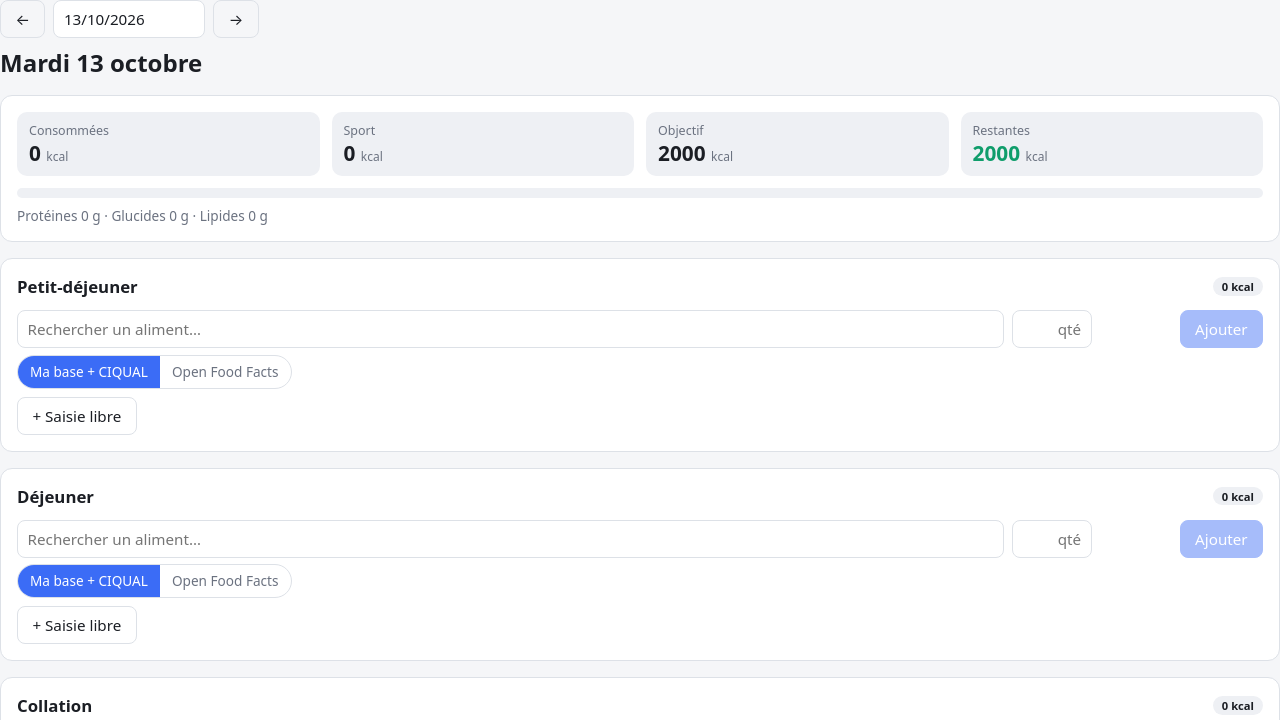
Scenario: Journal › ajoute un aliment à un repas
Check: the heading "Déjeuner" is shown, box [17, 485, 94, 508]
Type "Riz test" into the 2nd field with placeholder "Rechercher un aliment…" at (510,539), box [17, 520, 1004, 558]
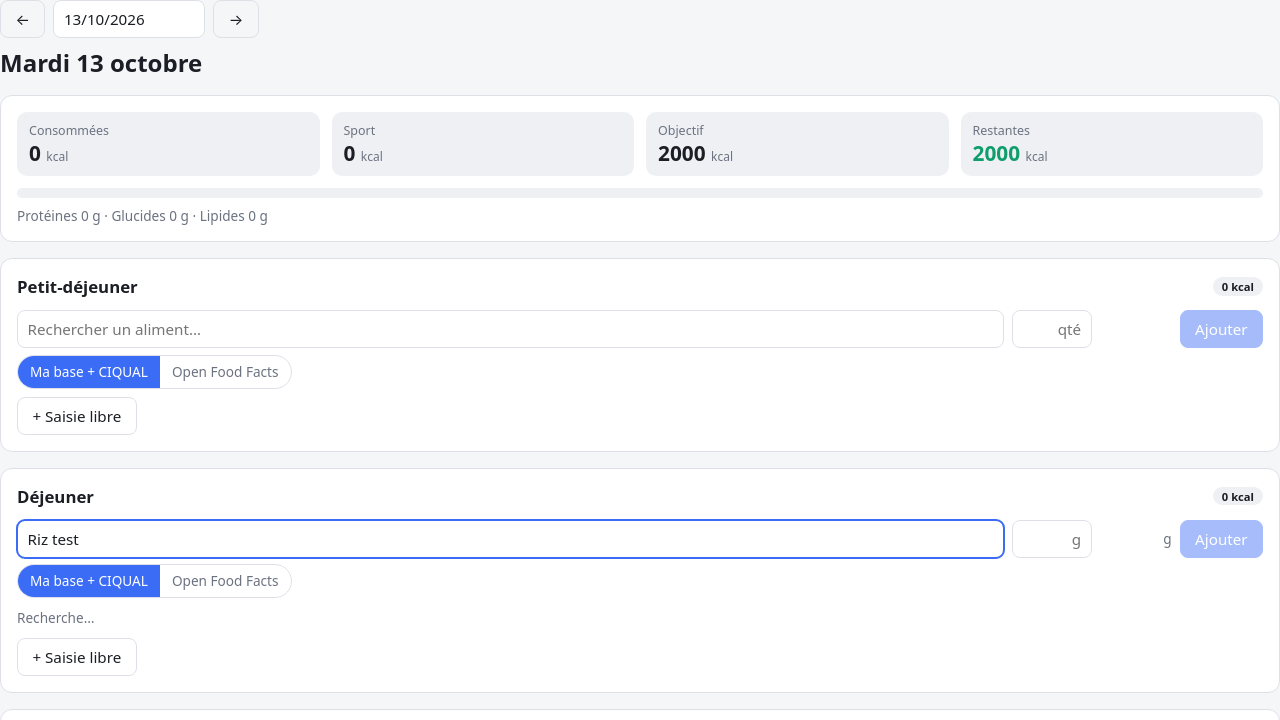
Type "200" into the field with placeholder "g" at (1052,539), box [1012, 520, 1092, 558]
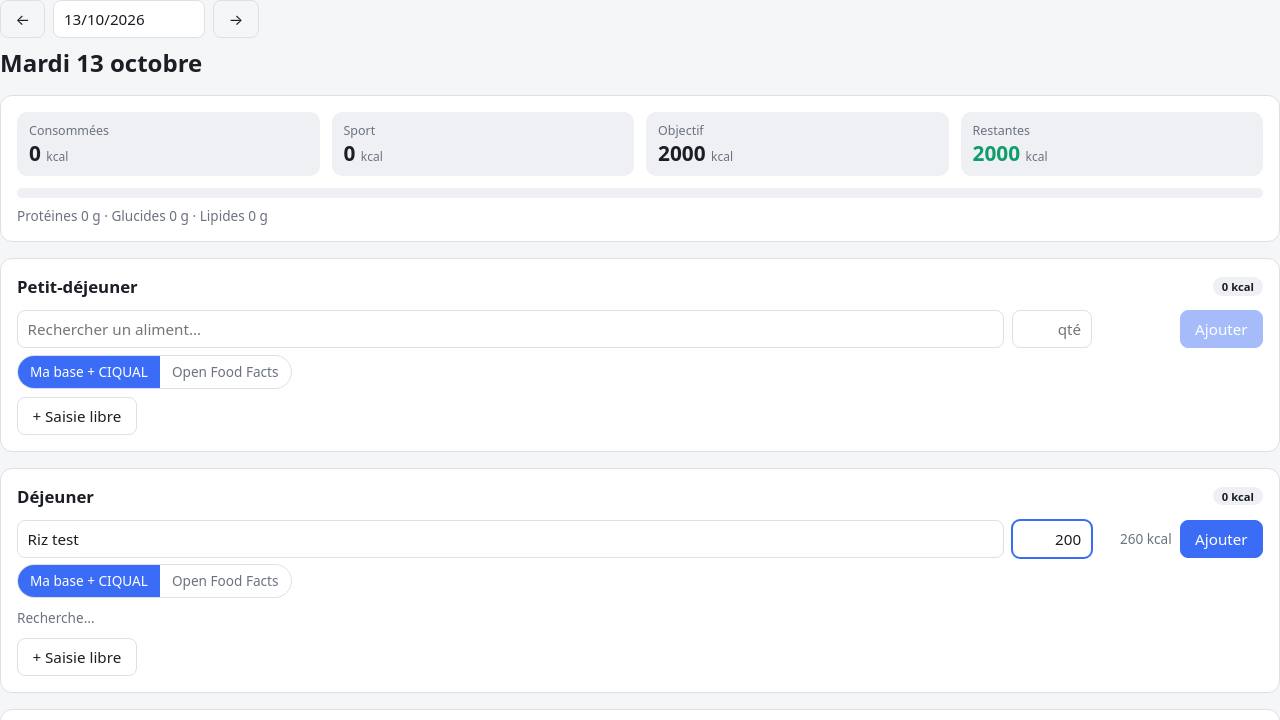
Click the button "Ajouter" next to "260 kcal" at (1221,539), box [1180, 520, 1263, 558]
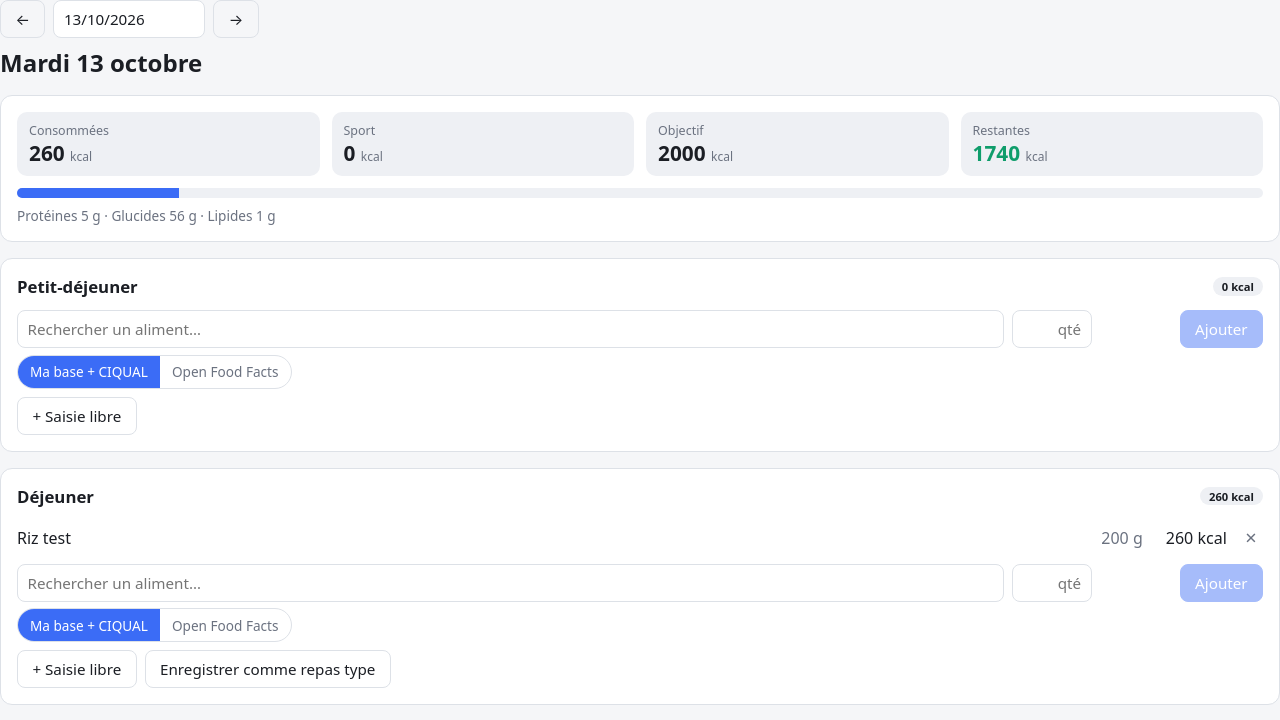
Check: the text "260 kcal" in the row of "Riz test" is shown, box [1166, 527, 1227, 549]
